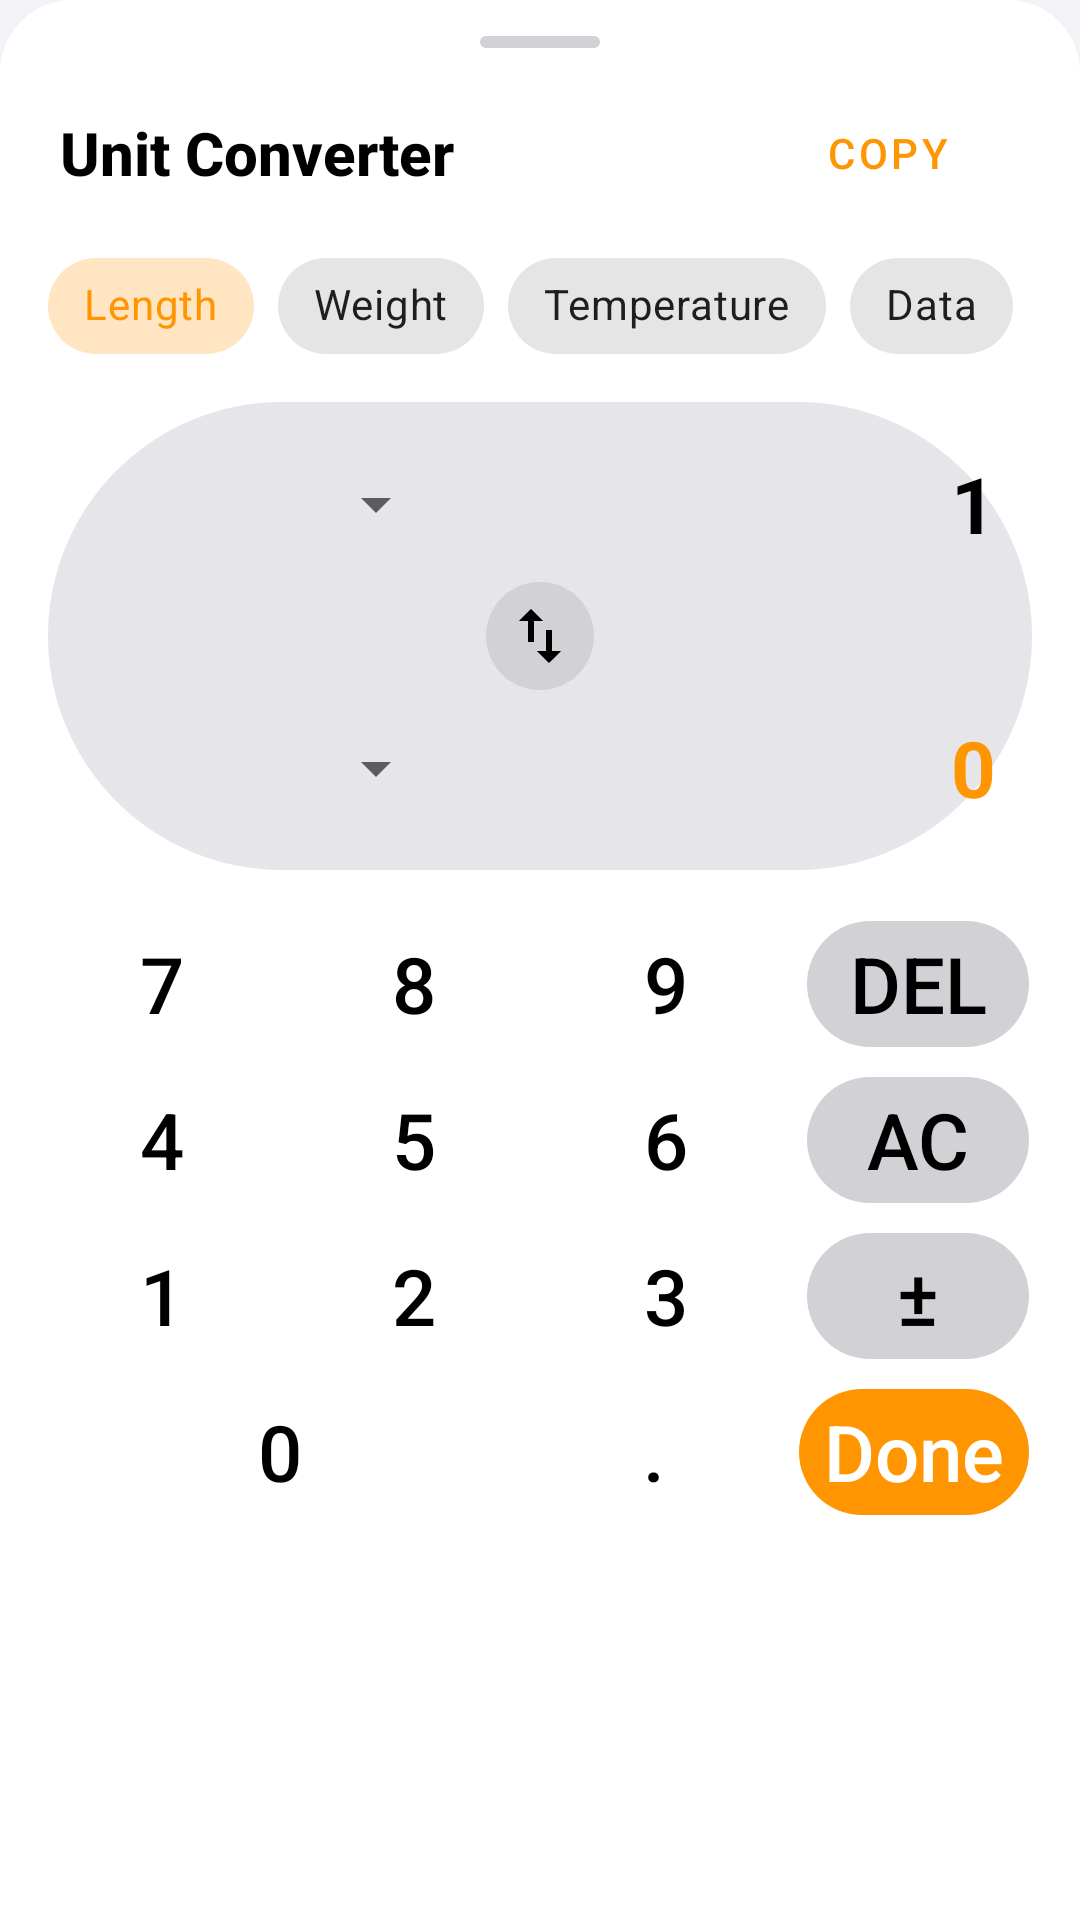

Named icons in this screenshot (1080×1920) and their centers, point (x, y):
Swap Units: point (540, 636)
